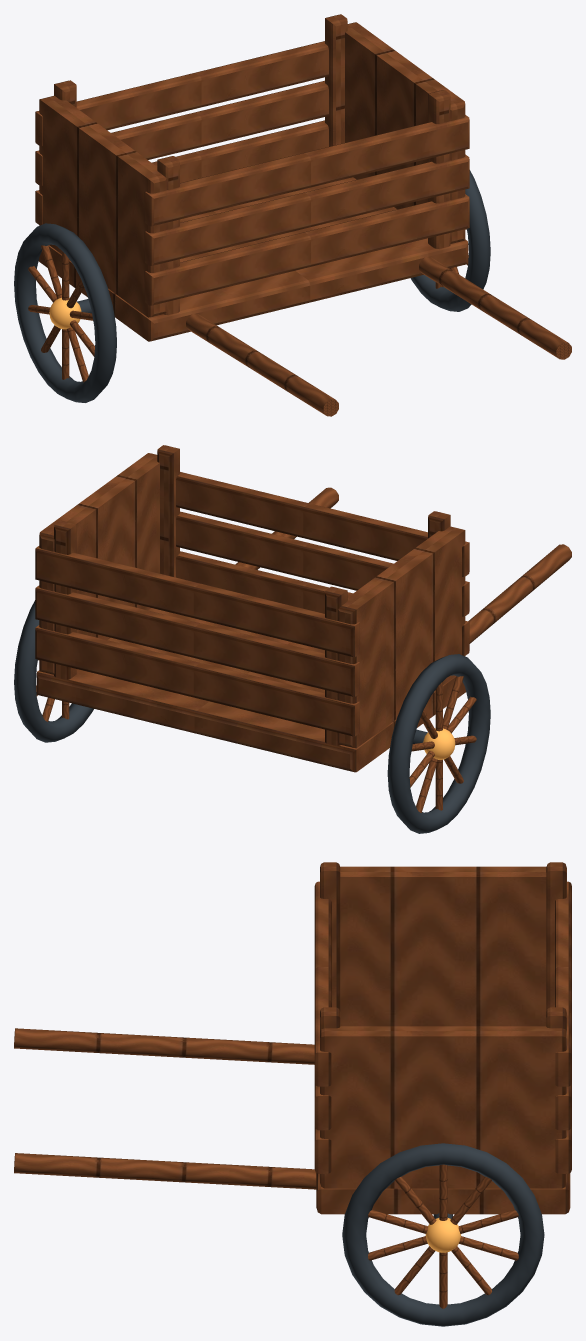
File: hollowwick-halloween-harvest-handcart-9147644b__21600.glb
3 renders of one model, top to bottom at view 1: azimuth 30°, elevation 25°; view 2: azimuth 150°, elevation 25°; view 3: azimuth 270°, elevation 25°, orthographic. The views are drawn at different scales.
Parts seen in each view (by area): view 1: harvest-handcart; view 2: harvest-handcart; view 3: harvest-handcart.
Part boxes in pixels (x1=…): harvest-handcart: x1=14, y1=14, x2=571, y2=416; harvest-handcart: x1=14, y1=445, x2=571, y2=833; harvest-handcart: x1=14, y1=862, x2=571, y2=1326.
Size of the model in its own units: 1.48 by 0.925 by 1.63.
3 materials, 1 textured.
